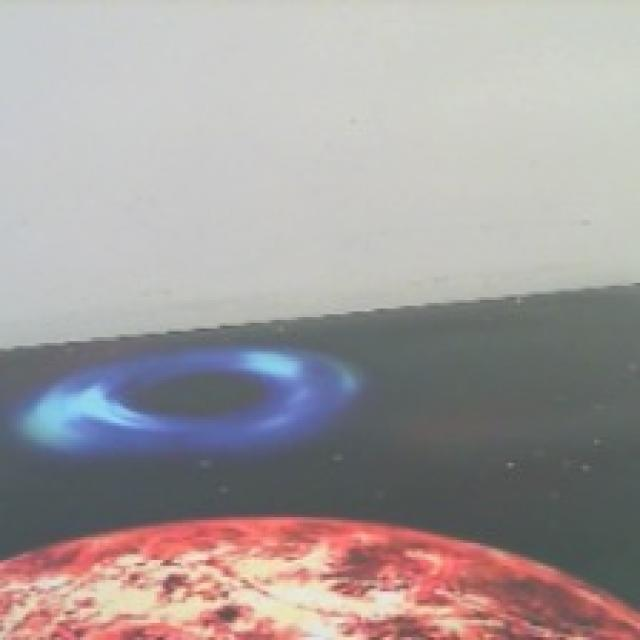Black Hole: (21, 329, 365, 454)
Sun: (0, 511, 640, 640)
